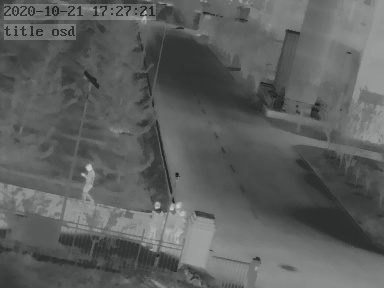person: (147, 200, 163, 247), (81, 161, 98, 203), (164, 201, 177, 247), (175, 202, 185, 242)
